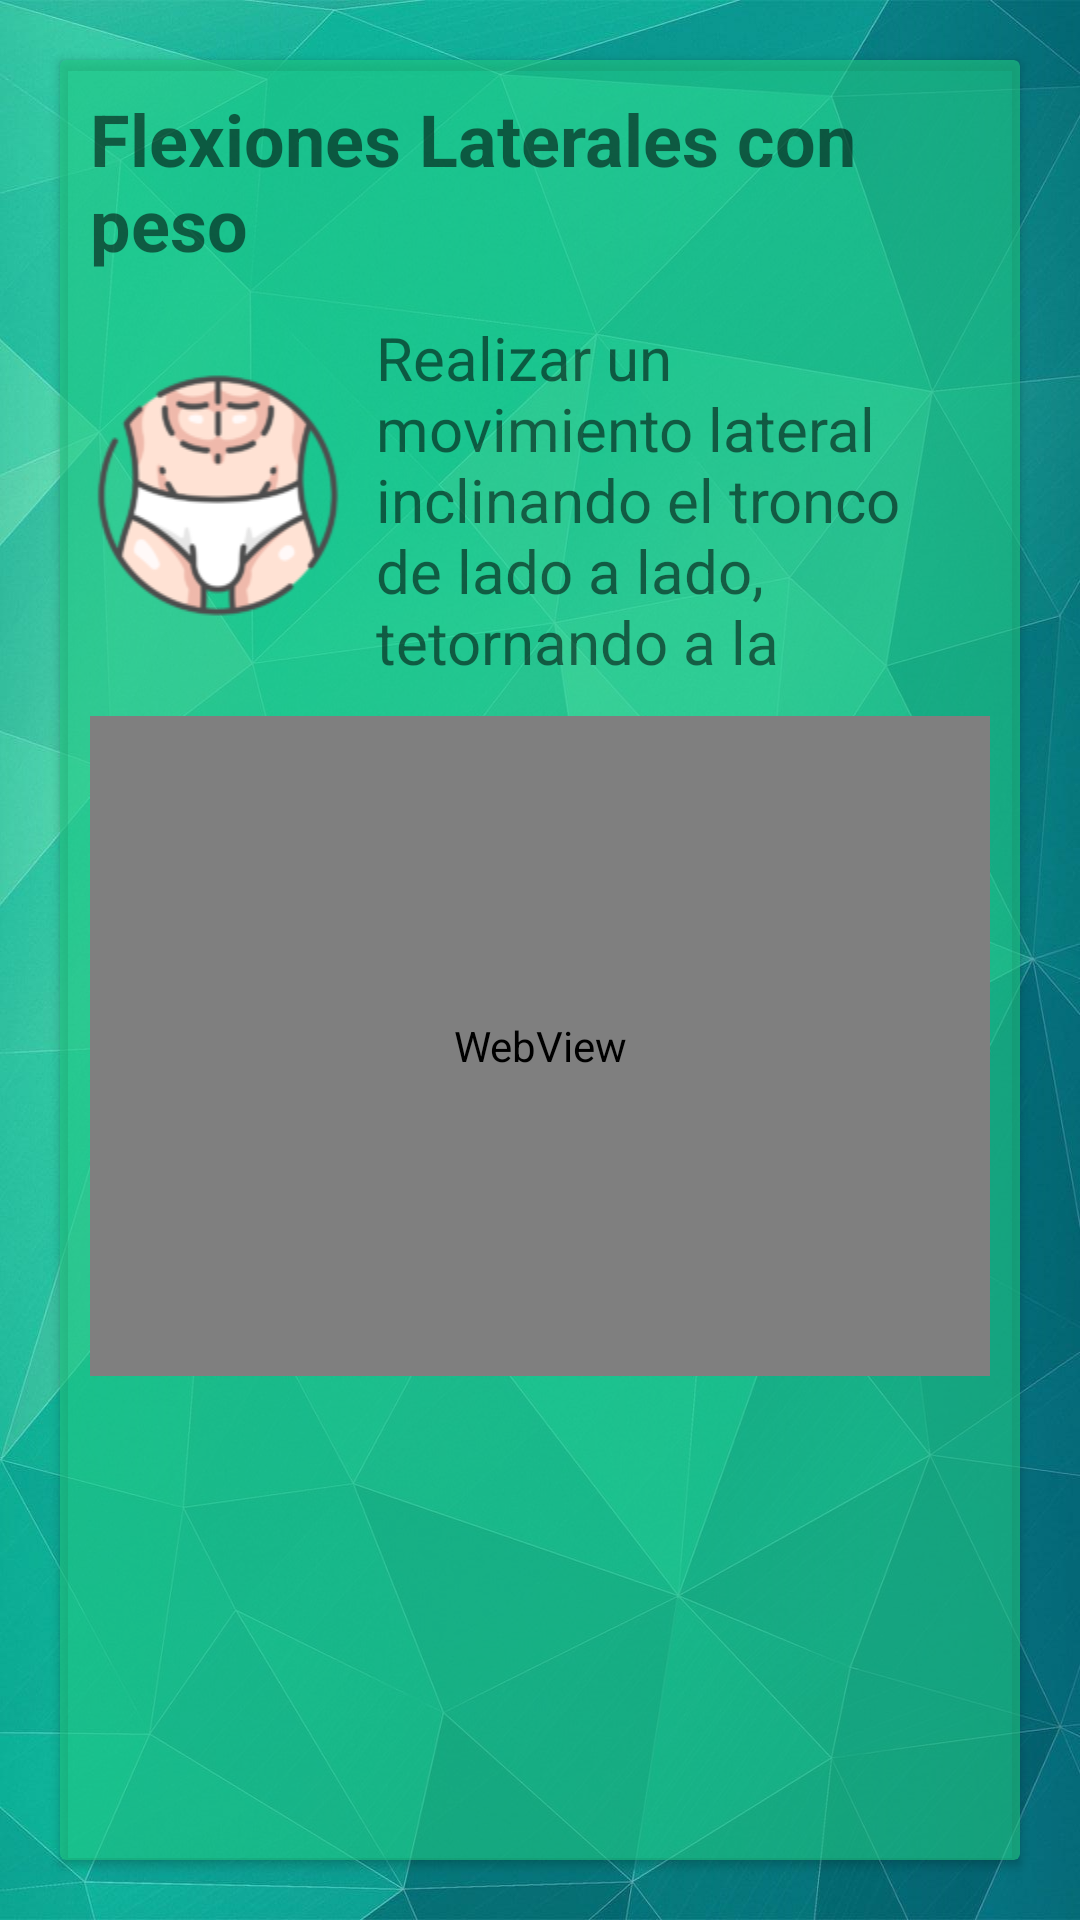

Screen size 1080x1920. Icon name, then its box in pixels as (x1, y1, x2, y2):
waist male body: (90, 375, 338, 674)
